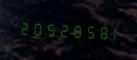eight: (95, 21, 107, 42), (69, 20, 81, 40)
five: (43, 18, 55, 39), (82, 20, 94, 41)
one: (108, 22, 120, 42)
two: (17, 17, 29, 37), (56, 19, 68, 39)
zero: (30, 18, 42, 38)
